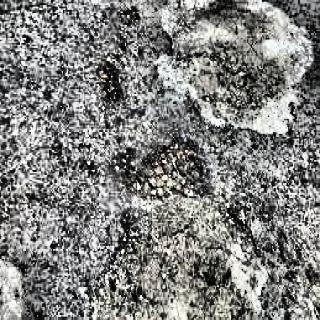pothole: (102, 123, 221, 193), (216, 206, 294, 289), (92, 62, 130, 100)
